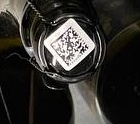2d: (47, 25, 90, 68)
